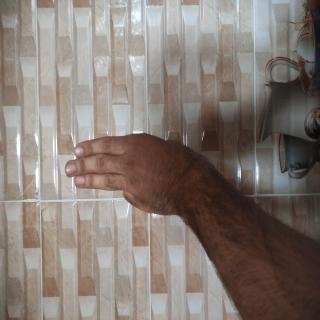THA: (74, 84, 145, 272)
